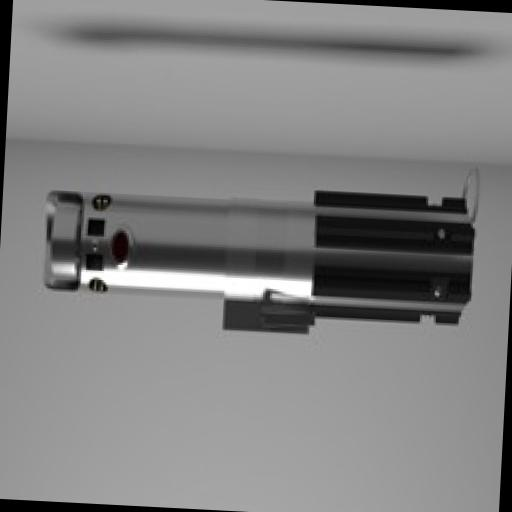lightsaber: (25, 163, 488, 364)
